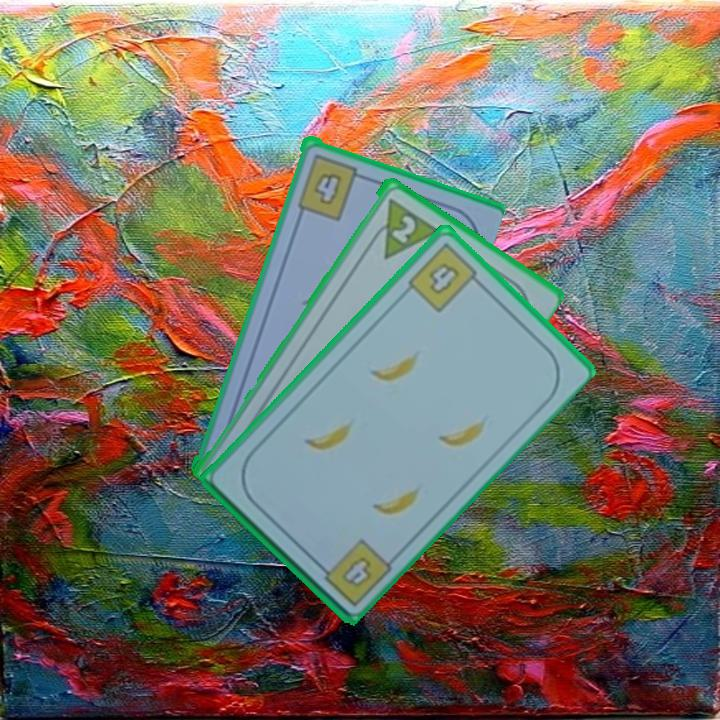2p: (363, 193, 440, 261)
4b: (403, 239, 486, 316), (312, 535, 394, 609), (293, 149, 368, 222)
